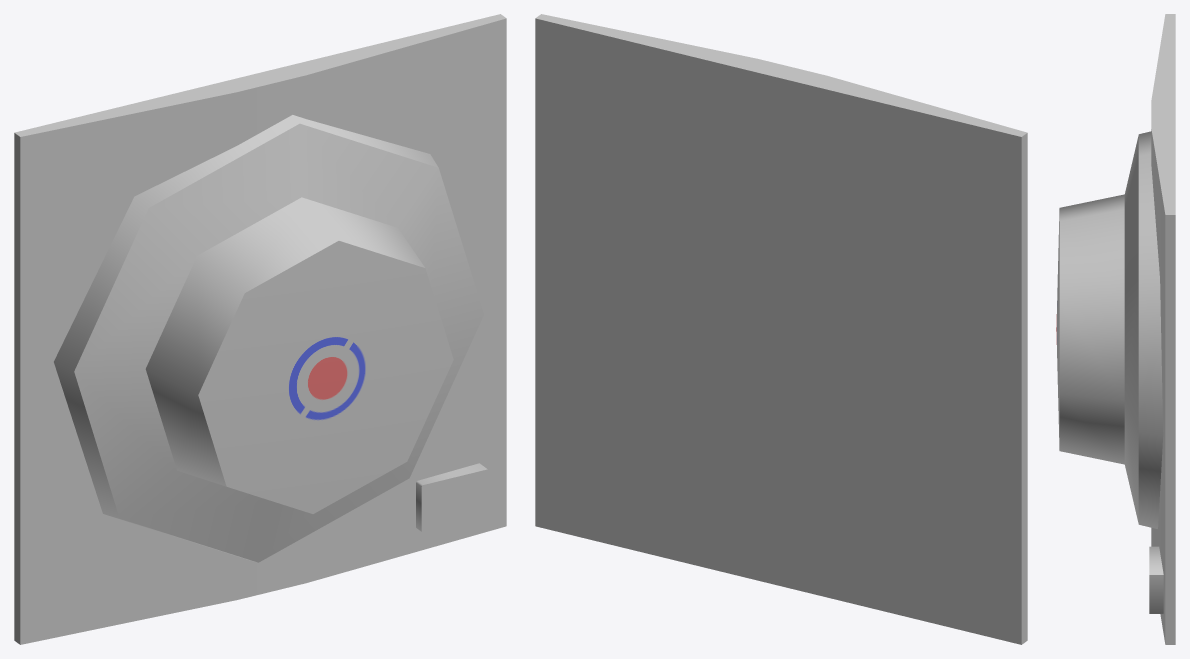
The model's file is LC_3002_electronic_siren_LOD1.FBX.
3 renders of one model, left to right at view 1: azimuth 30°, elevation 25°; view 2: azimuth 150°, elevation 25°; view 3: azimuth 270°, elevation 25°, orthographic. The views are drawn at different scales.
Parts seen in each view (by area): view 1: LC_3002_electronic_siren_LOD1; view 2: LC_3002_electronic_siren_LOD1; view 3: LC_3002_electronic_siren_LOD1.
Boxes of the visible parts, left/top/right/bottom form: LC_3002_electronic_siren_LOD1: left=14, top=14, right=506, bottom=644; LC_3002_electronic_siren_LOD1: left=535, top=14, right=1027, bottom=644; LC_3002_electronic_siren_LOD1: left=1056, top=14, right=1175, bottom=644.
Bounding box in the file's own units: 12.45 × 12.42 × 3.12.
